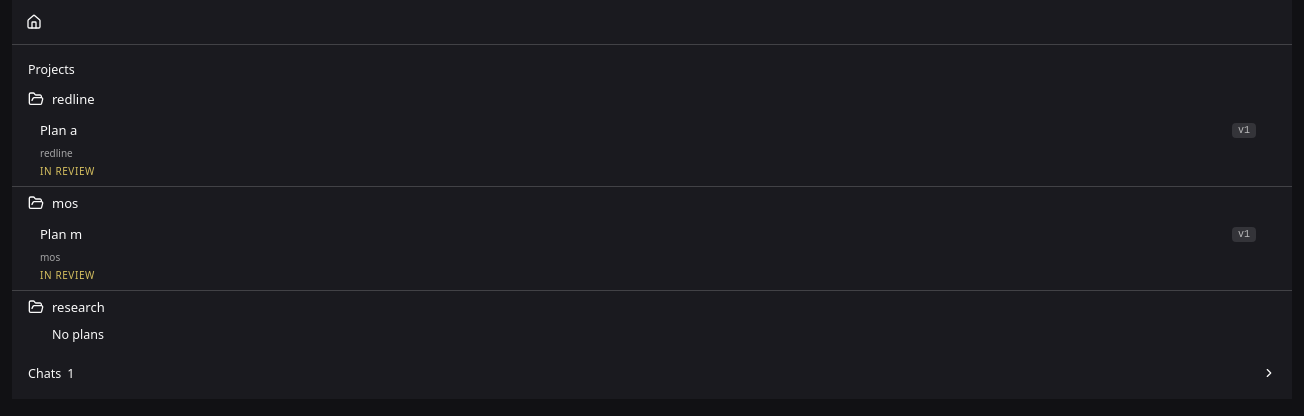
Test: the grouped sidebar › a project folds away on its header, kept per project; one with no plans says so
Expected: the text with class "rl-sb-none" reads "No plans", 52,326 -> 104,343
Click the 1st button with class "rl-sb-proj".
click(73, 99)  # box 18,85 -> 1256,113
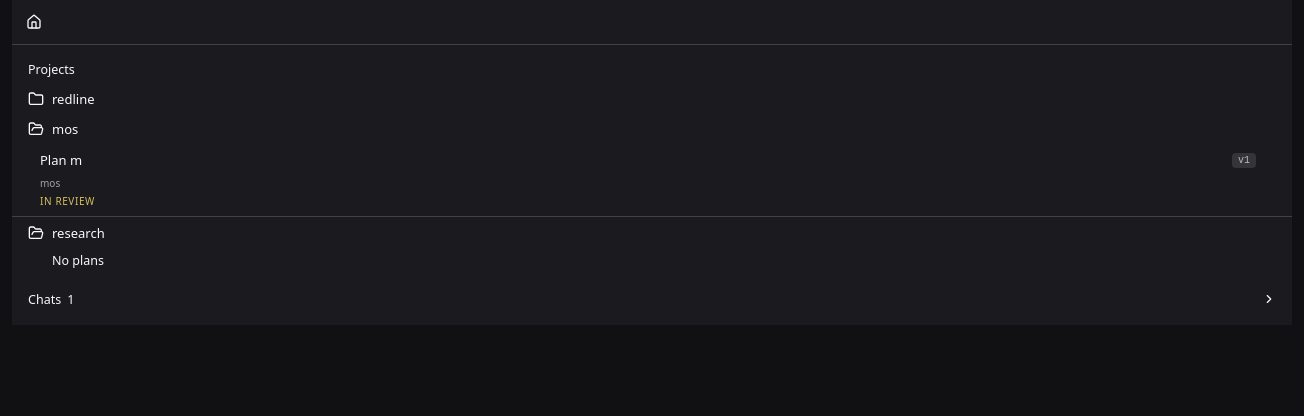
Expected: the list item with class "rl-session-row" is shown, 12,143 -> 1292,217
Result: the button with class "rl-sb-proj" is collapsed
Click the button with class "rl-sb-proj" showing "redline".
click(73, 99)  # box 18,85 -> 1256,113
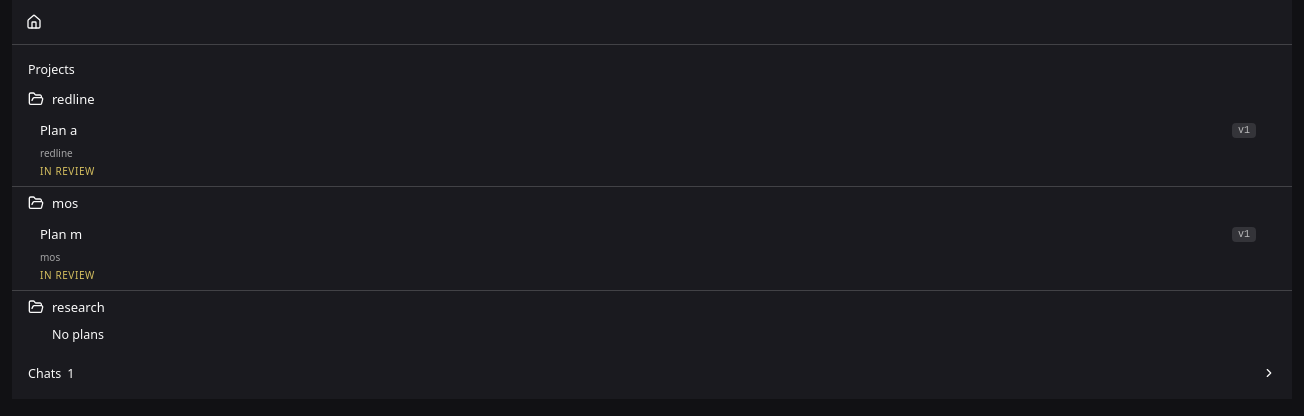
Result: the list item with class "rl-session-row" showing "Plan a v1 redline in review" is shown at 12,113 -> 1292,187
